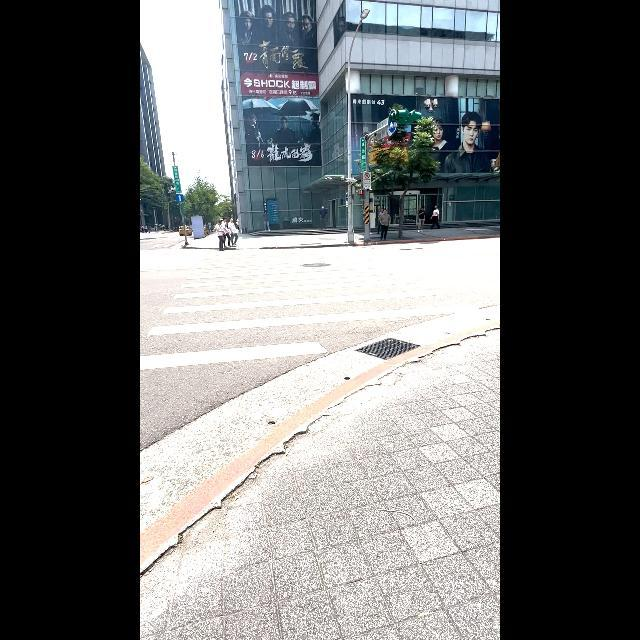sidewalk: (140, 243, 500, 581)
